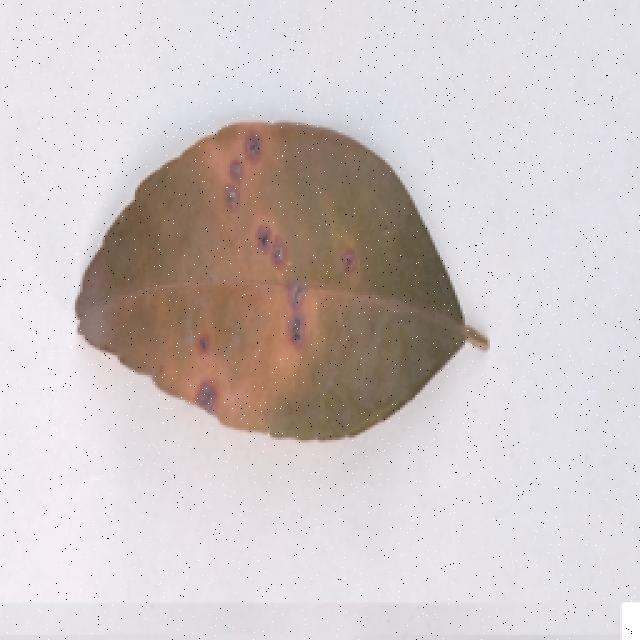canker: (112, 128, 447, 420)
